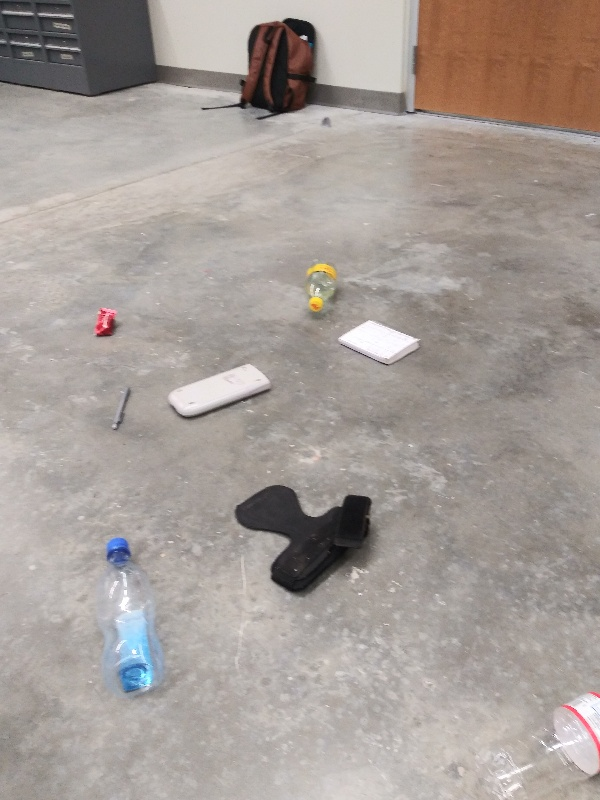bottle: (466, 687, 600, 798), (98, 536, 168, 698), (302, 255, 342, 316)
